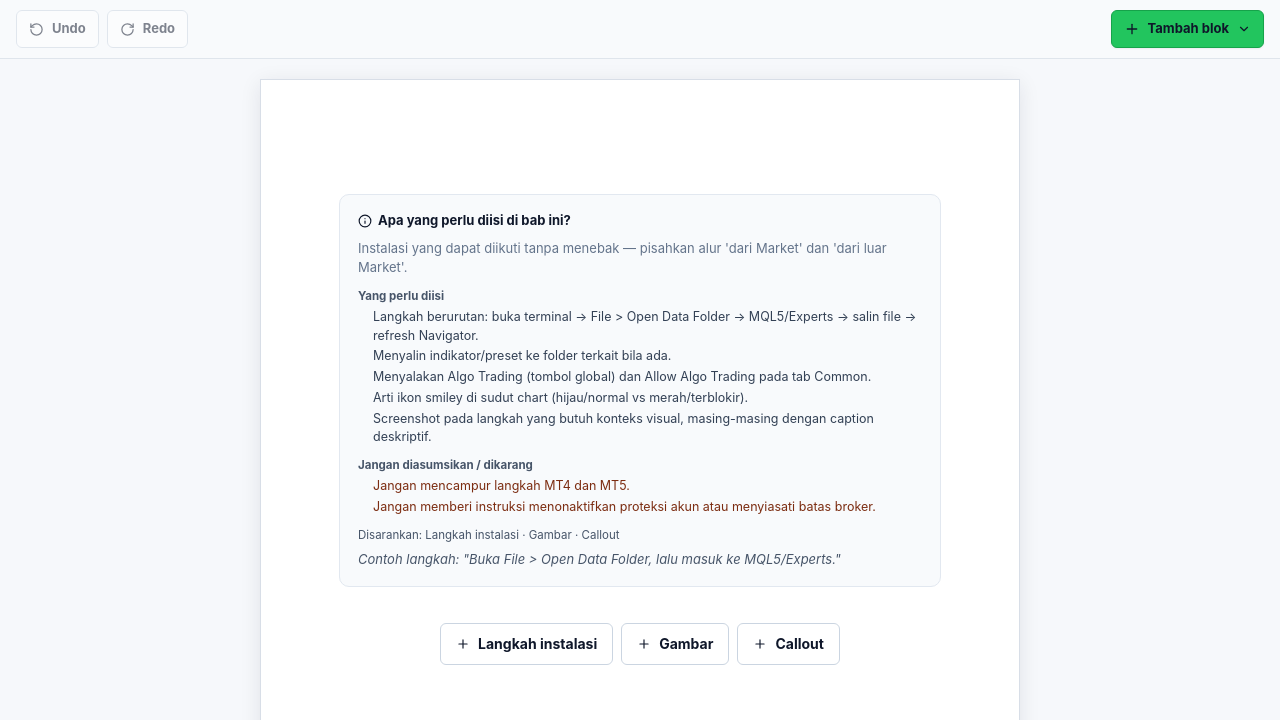
SectionEditor undo/redo (AC-P3-12) › add block -> type content -> undo -> redo; persisted state matches the visible state
Click the button "Tambah blok": {"x": 1187, "y": 29} [1111,10,1264,48]
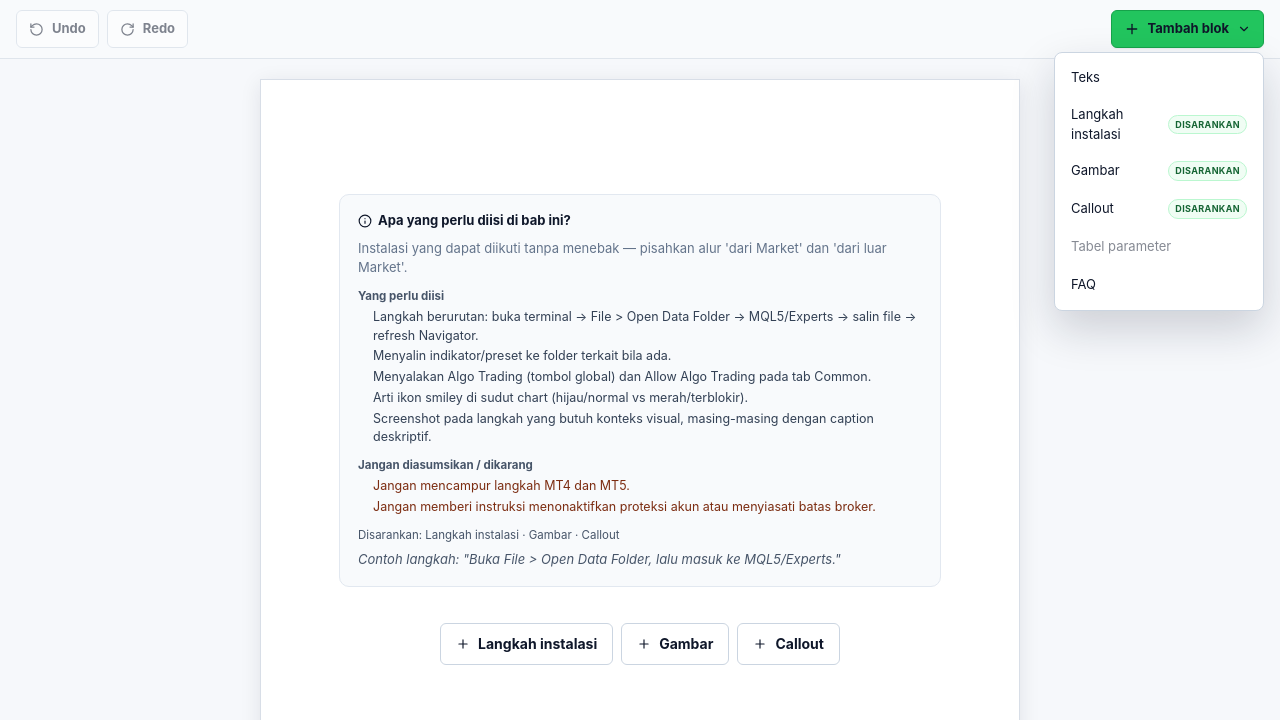
Click the menu item "Langkah instalasi disarankan": {"x": 1159, "y": 124} [1061,97,1257,152]
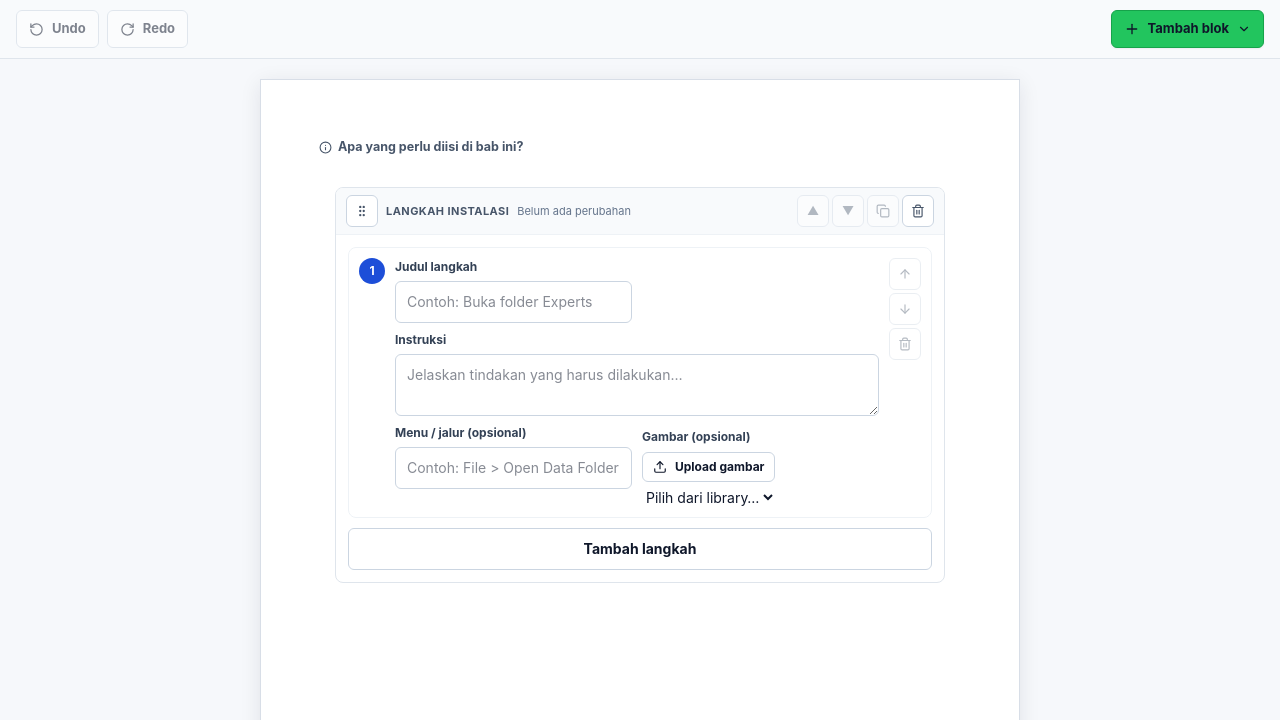
In the field labelled "Judul langkah": {"x": 514, "y": 302} [395,281,632,323], type "Langkah nyata"
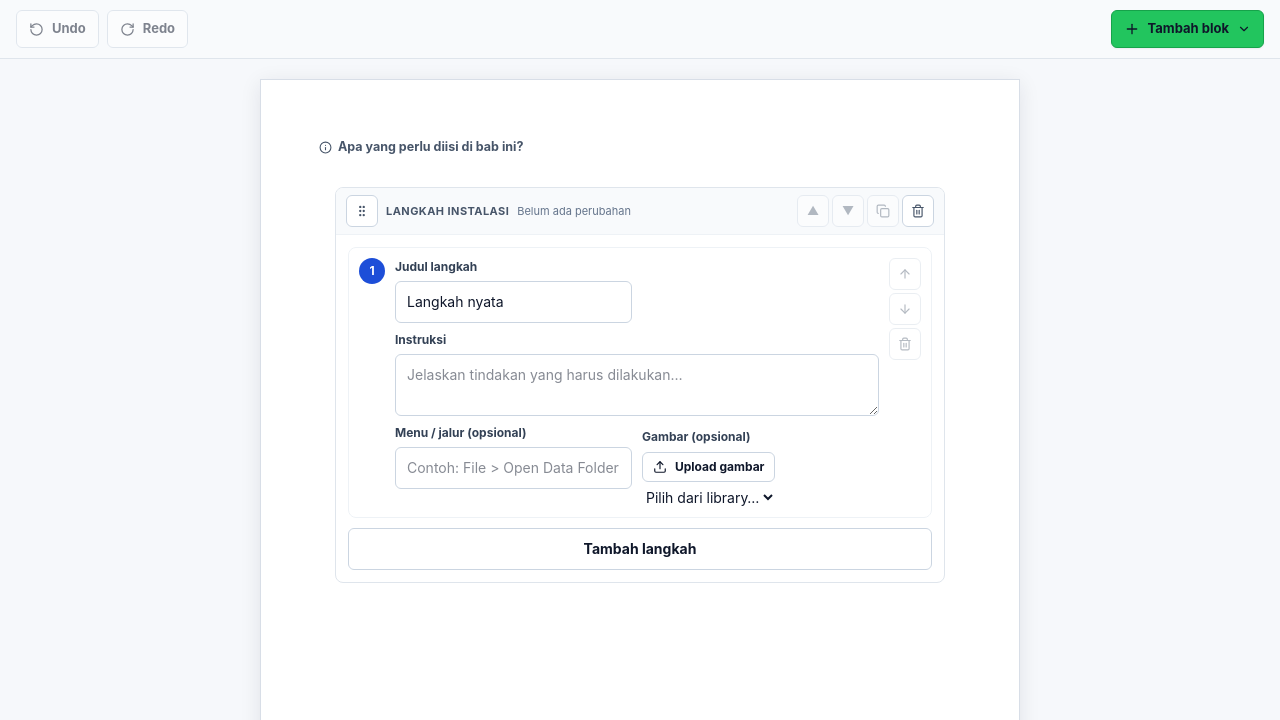
In the text box labelled "Instruksi": {"x": 637, "y": 385} [395,354,879,416], type "Instruksi nyata."
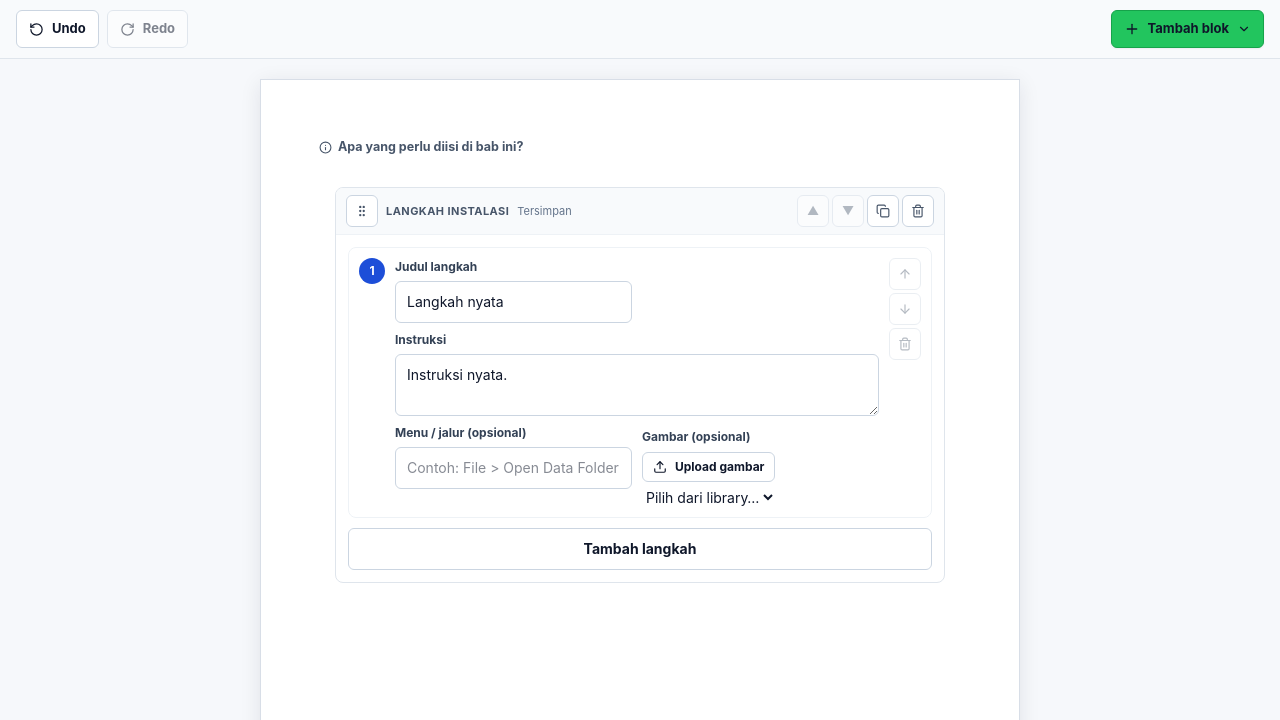
Check: the button named "Hapus blok 1" is shown, box [902,195,934,227]
Click the button with aria-label "Batalkan": {"x": 57, "y": 29} [16,10,99,48]
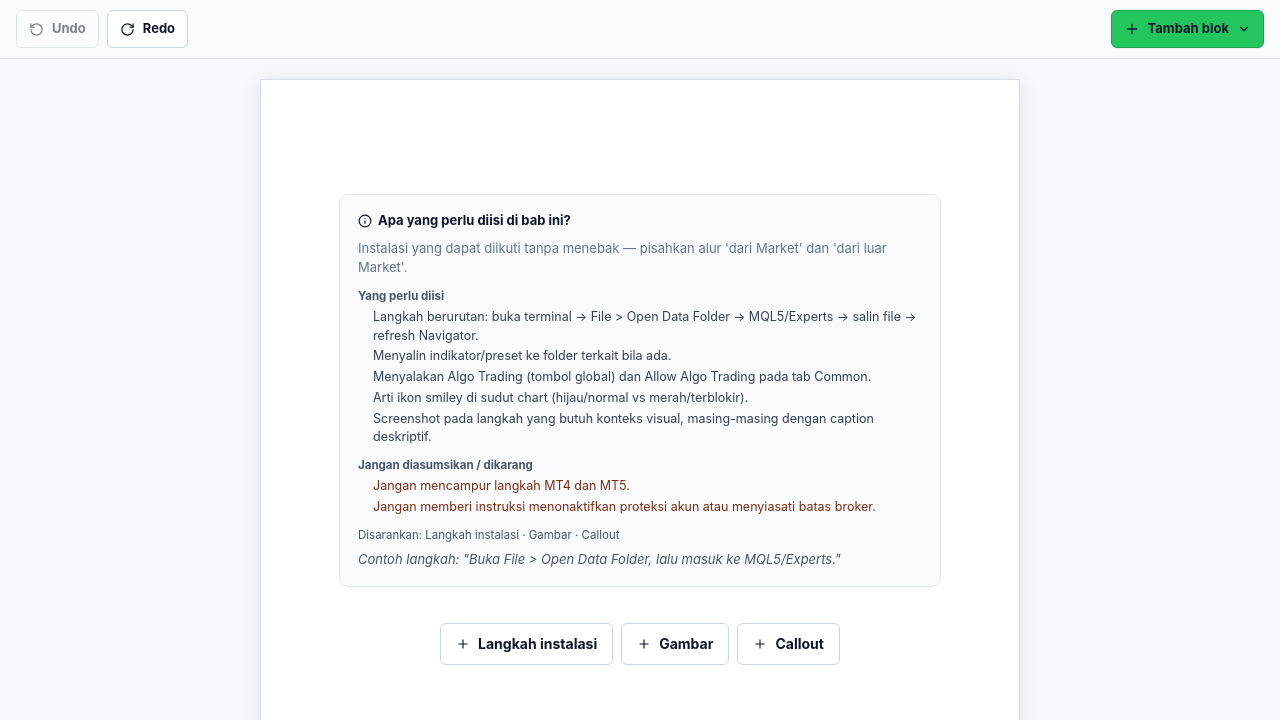
Check: the button with aria-label "Ulangi" is enabled
Click the button with aria-label "Ulangi": {"x": 147, "y": 29} [107,10,188,48]
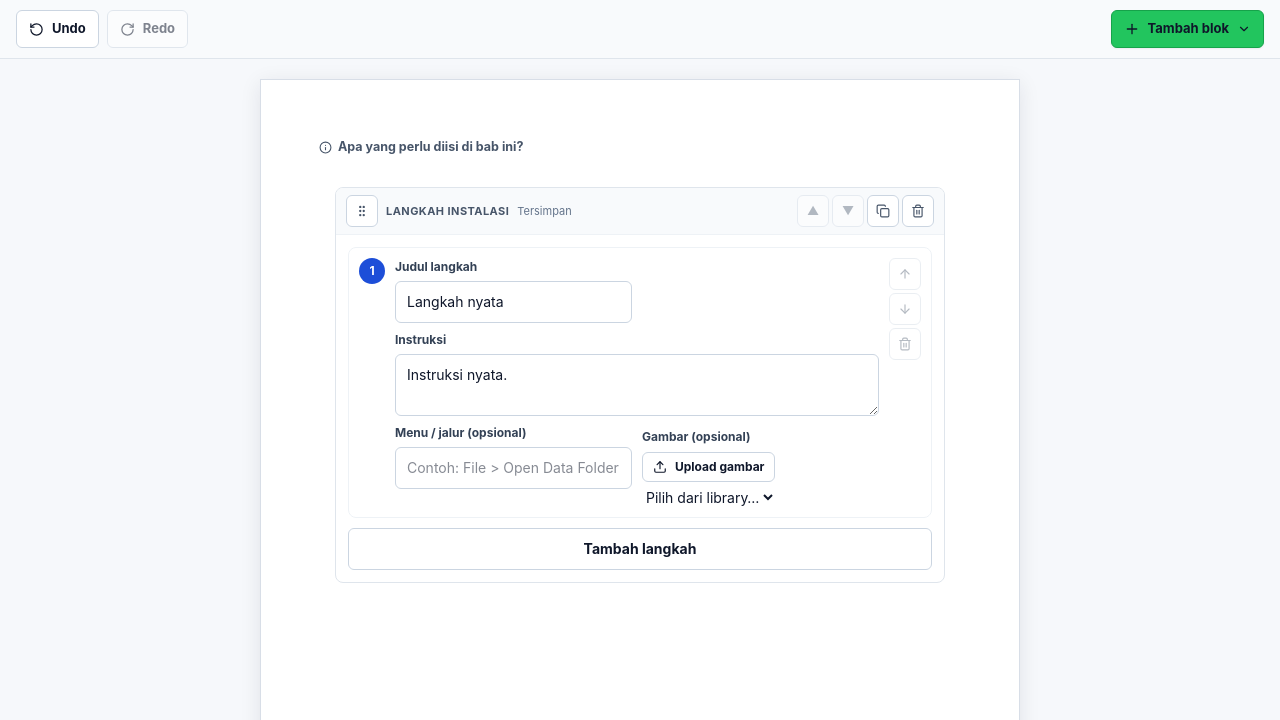
Check: the button named "Hapus blok 1" is shown, box [902,195,934,227]
Check: the button with aria-label "Ulangi" is disabled, box [107,10,188,48]
